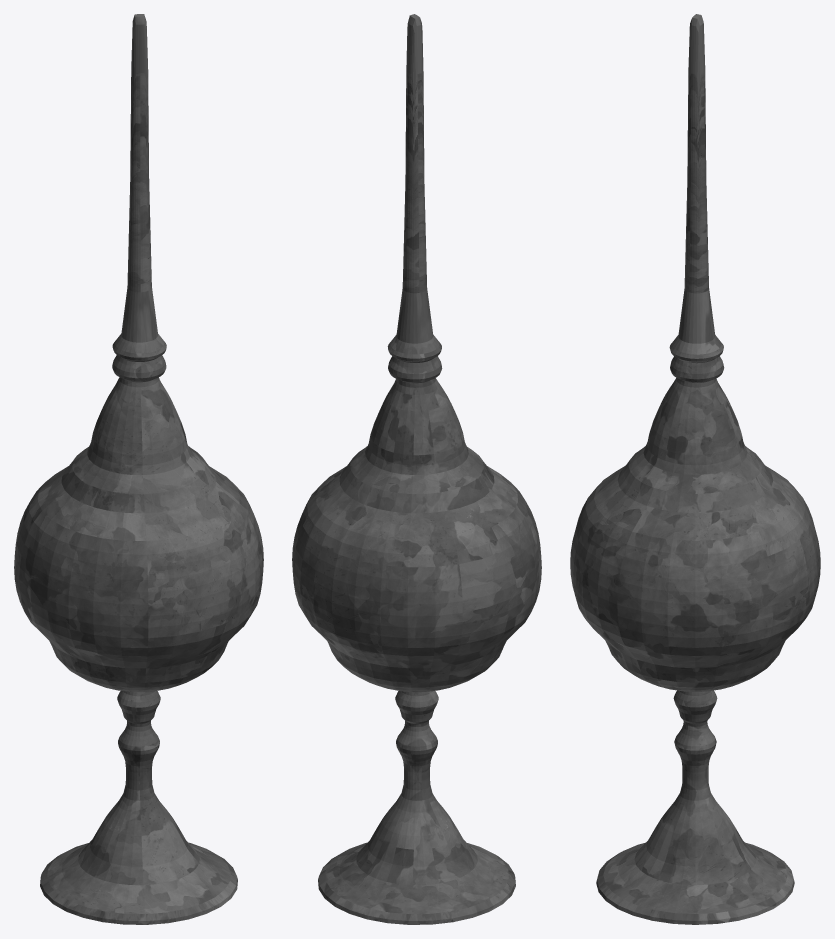
File: nightmarechandler.glb
3 views of the same model, side by side, from view 1: azimuth 30°, elevation 25°; view 2: azimuth 150°, elevation 25°; view 3: azimuth 270°, elevation 25° (orthographic).
Visible parts, largest first — view 1: Sphere; view 2: Sphere; view 3: Sphere.
Boxes of the visible parts, left/top/right/bottom form: Sphere: left=14, top=14, right=263, bottom=924; Sphere: left=292, top=14, right=541, bottom=924; Sphere: left=570, top=14, right=820, bottom=924.
Bounding box in the file's own units: 1.92 × 7.34 × 1.92.
Materials: 1 (1 with a texture image).
